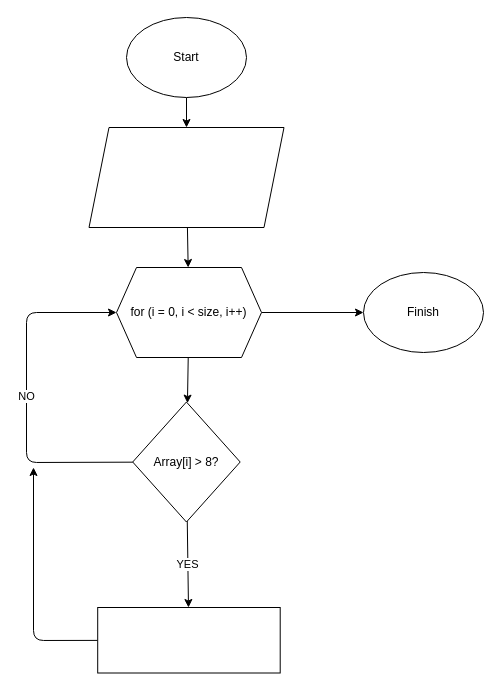
Some shapes in this 501 by 691 pixel diagram are drawn without their labels. The box of each missing label's shape, as (x1, y1, x2, y2) in pixels:
array[] size = array.Length: (88, 126, 284, 228)
Print(array[i]): (97, 606, 280, 673)
